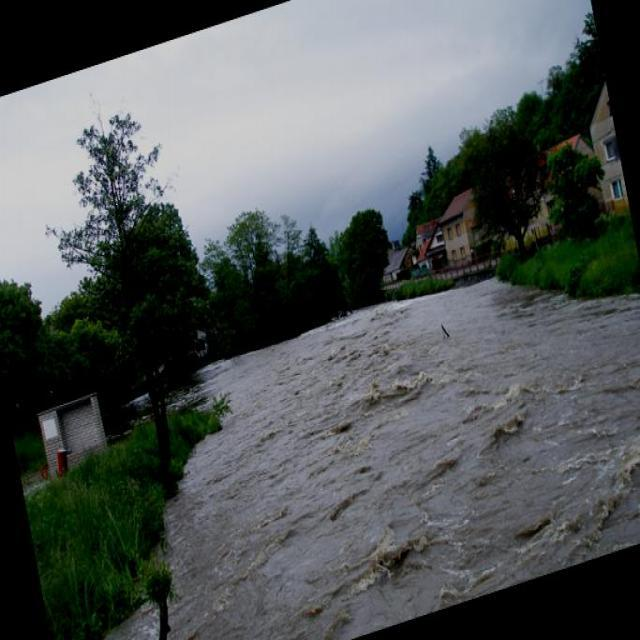flood: (141, 216, 639, 639)
